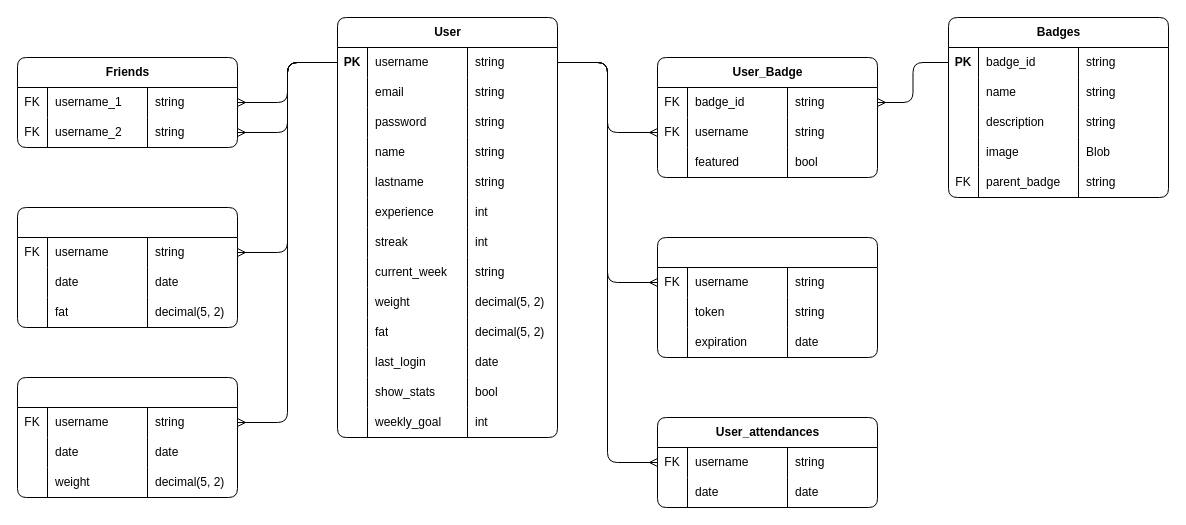
Image size: 1186x525. Some labels were removed from this diagram. Here are the shapes that lost their labels. From the top down, the box of each, then its label:
(16, 206, 238, 328): User_Fat_history
(656, 236, 878, 358): Session
(16, 376, 238, 498): User_Weight_history
